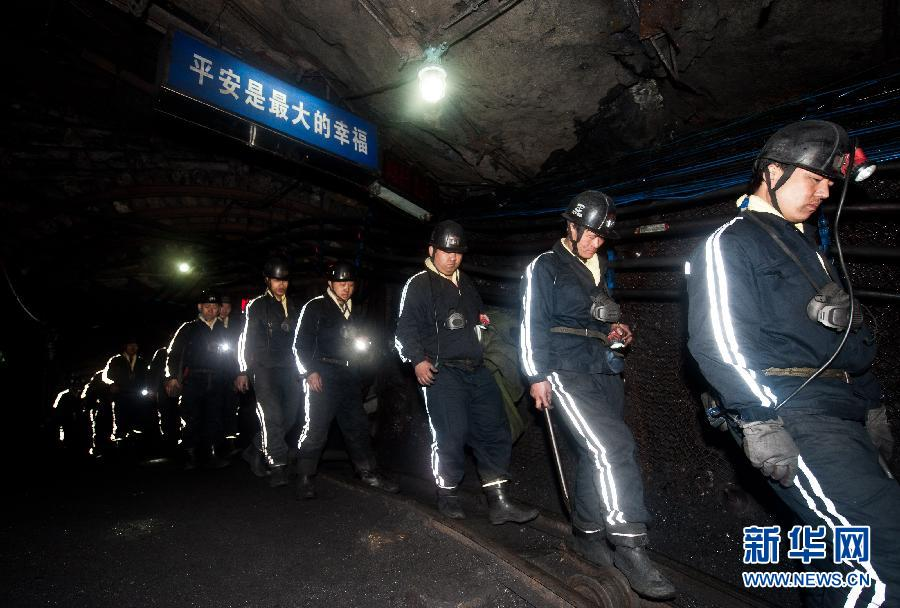helmet: (746, 113, 857, 233), (550, 184, 631, 266), (416, 211, 482, 281)
